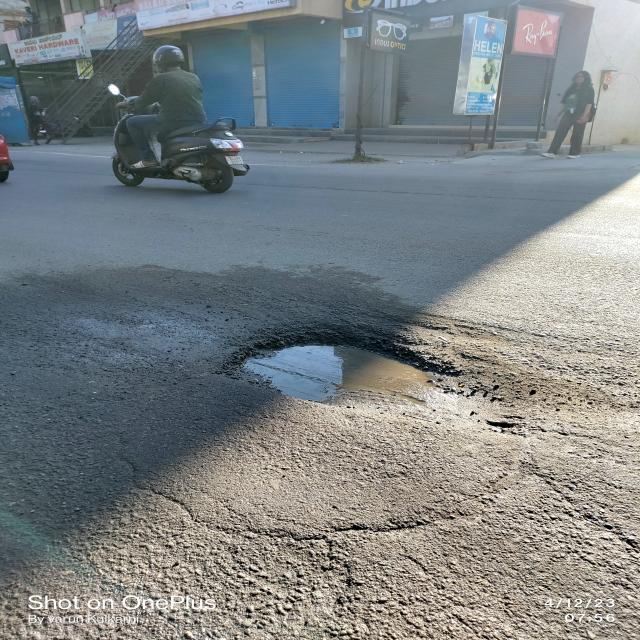Puddle pothole: (212, 320, 478, 410)
